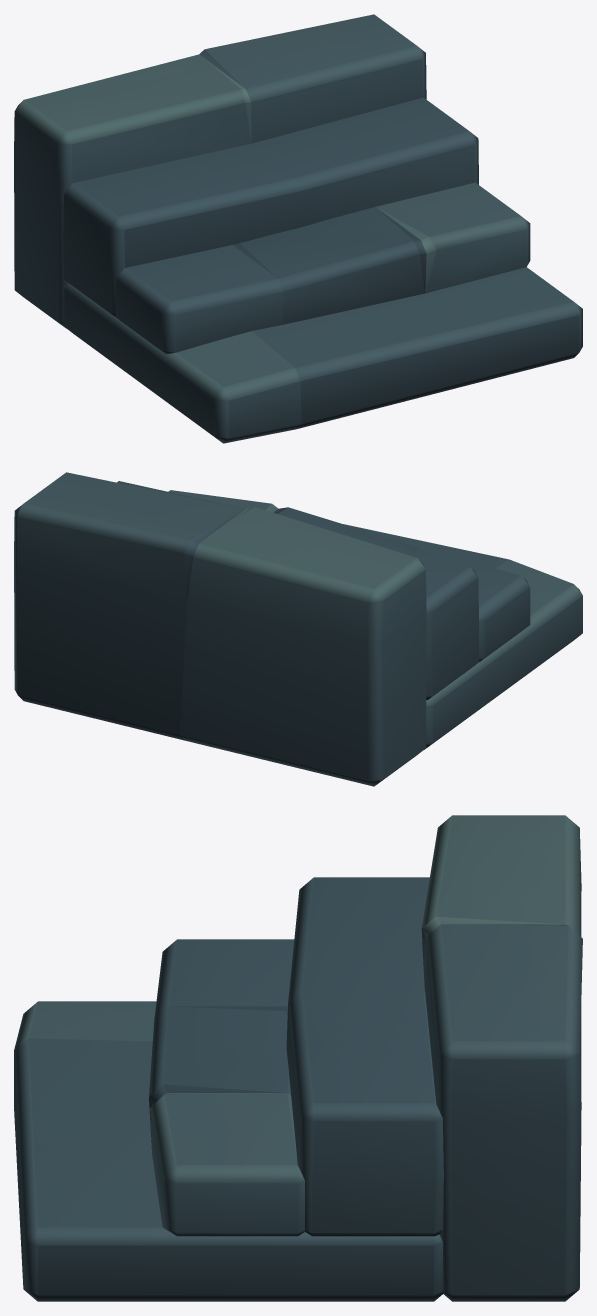
The model's file is stair_1.fbx.
3 views of the same model, one above another, from view 1: azimuth 30°, elevation 25°; view 2: azimuth 150°, elevation 25°; view 3: azimuth 270°, elevation 25° (orthographic). The views are drawn at different scales.
Visible parts, largest first — view 1: stair_1; view 2: stair_1; view 3: stair_1.
Part boxes in pixels (x1,y1,x2,y2): stair_1: (14, 14, 582, 443); stair_1: (14, 472, 582, 786); stair_1: (14, 815, 582, 1301).
Size of the model in its own units: 205 by 108 by 208.
